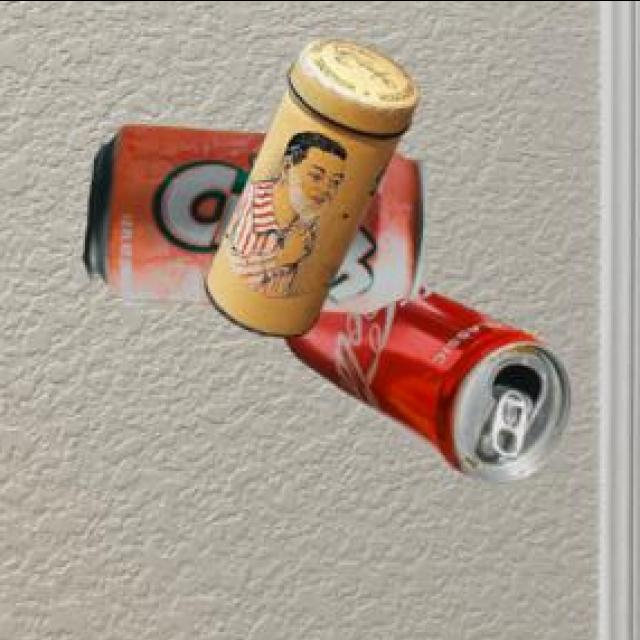logam: (79, 129, 422, 317), (203, 41, 415, 339), (283, 288, 567, 484)
